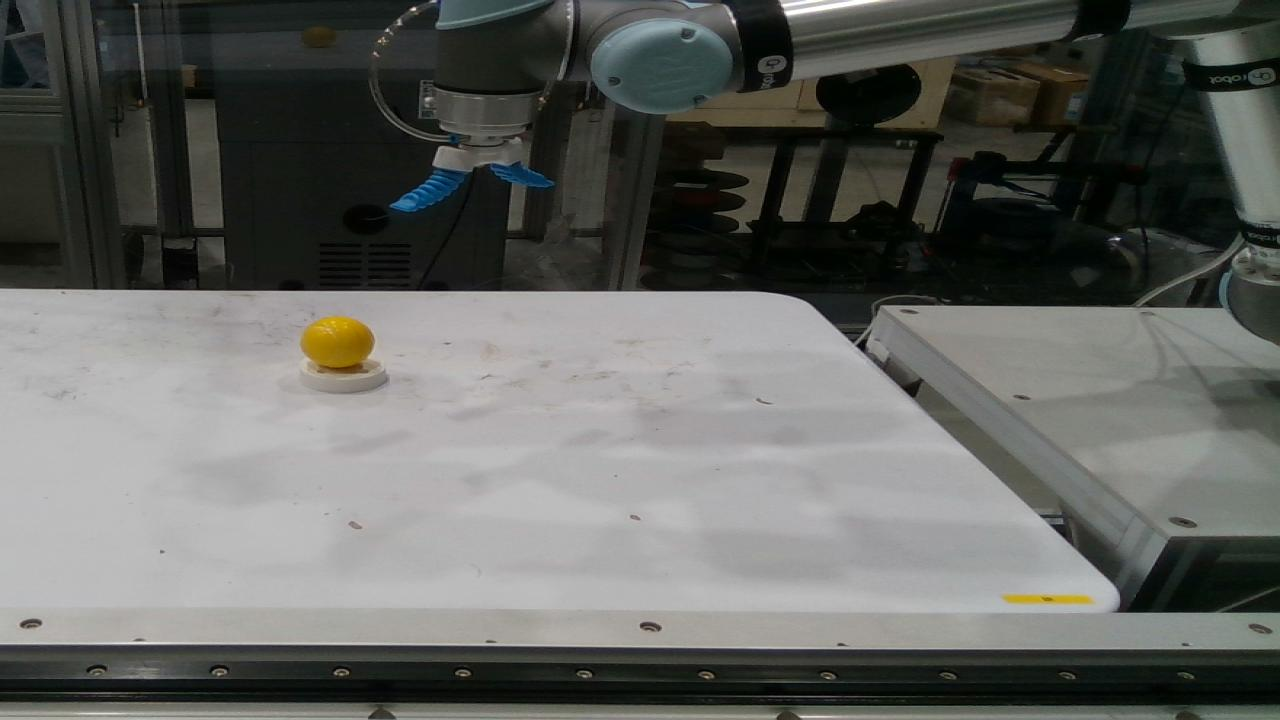UR5: (435, 0, 1279, 344)
gripper_left: (492, 160, 554, 188)
gripper_right: (390, 167, 467, 215)
target: (299, 350, 387, 393), (301, 316, 375, 367)
